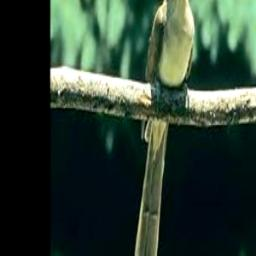Cuckoo: (134, 0, 195, 256)
